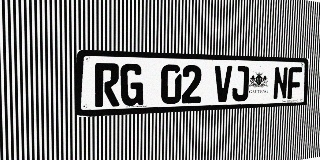0: (161, 64, 182, 104)
2: (182, 65, 202, 104)
F: (287, 67, 302, 99)
G: (120, 63, 144, 106)
J: (232, 66, 249, 102)
N: (273, 67, 288, 100)
R: (95, 63, 120, 107)
V: (214, 65, 232, 102)
